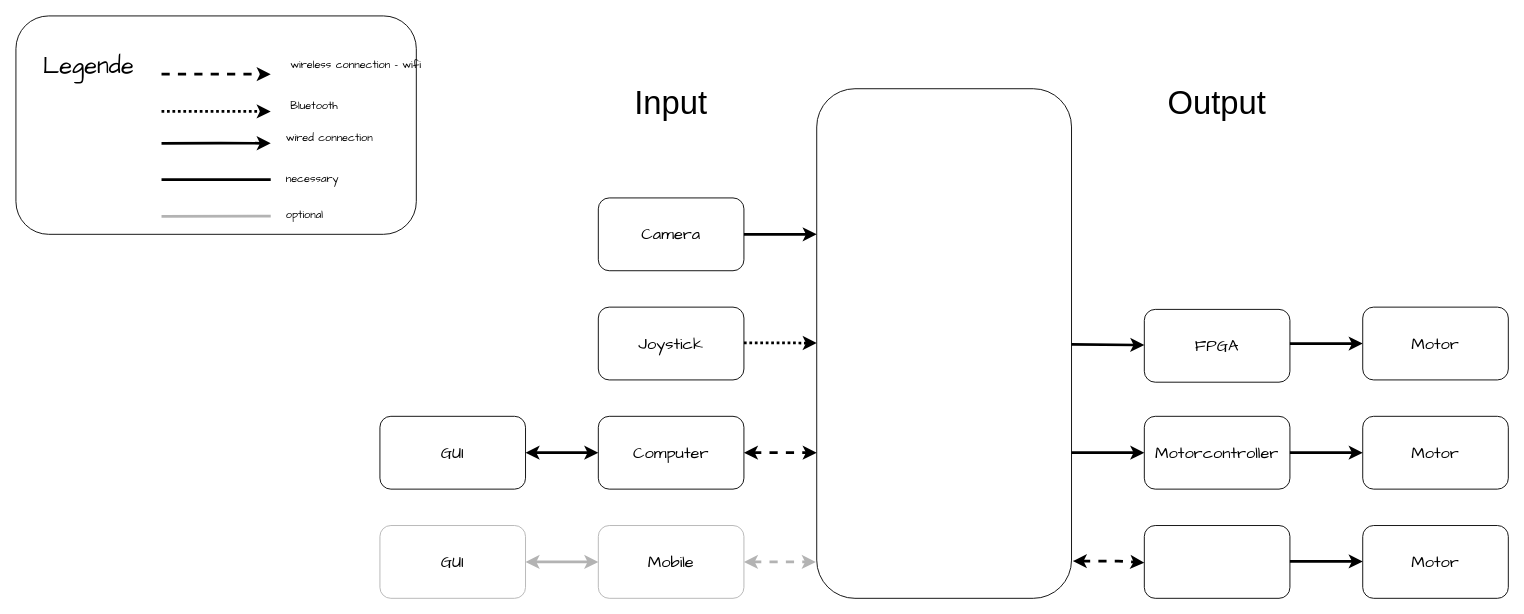
This 1524x614 diagram has some shape labels left out. Here are the shapes that lost their labels. From the top down, the centre of each, then its label:
At (944,343): "BeagleBoneBlack".
At (1216,561): "ESP32-CAM".
